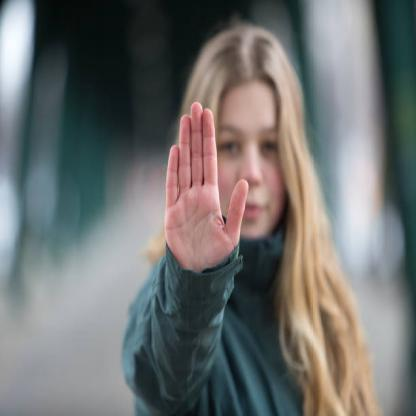stop: (164, 94, 250, 282)
